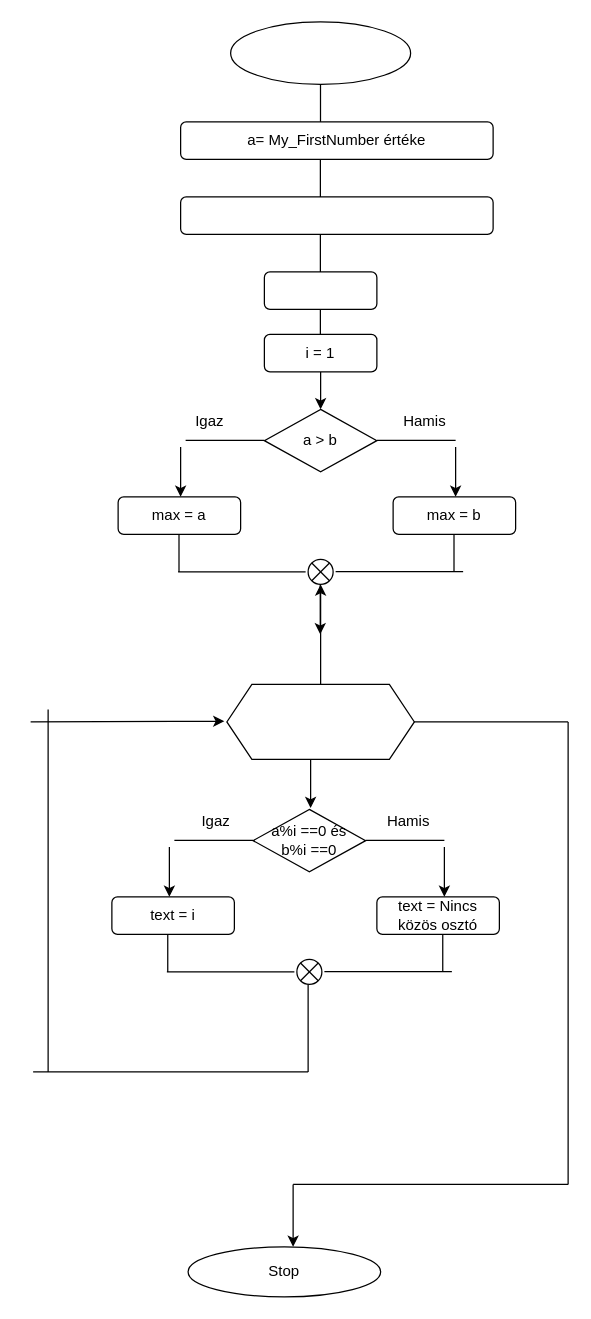
Image size: 591x1319. Some labels were removed from this diagram. The centre of each missing label's shape, as x and y in pixels:
b= My_SecondNumber értéke: the point at 336,215
i =1, i <= max; i++: the point at 320,721
Max: the point at 320,290
Start: the point at 320,52
